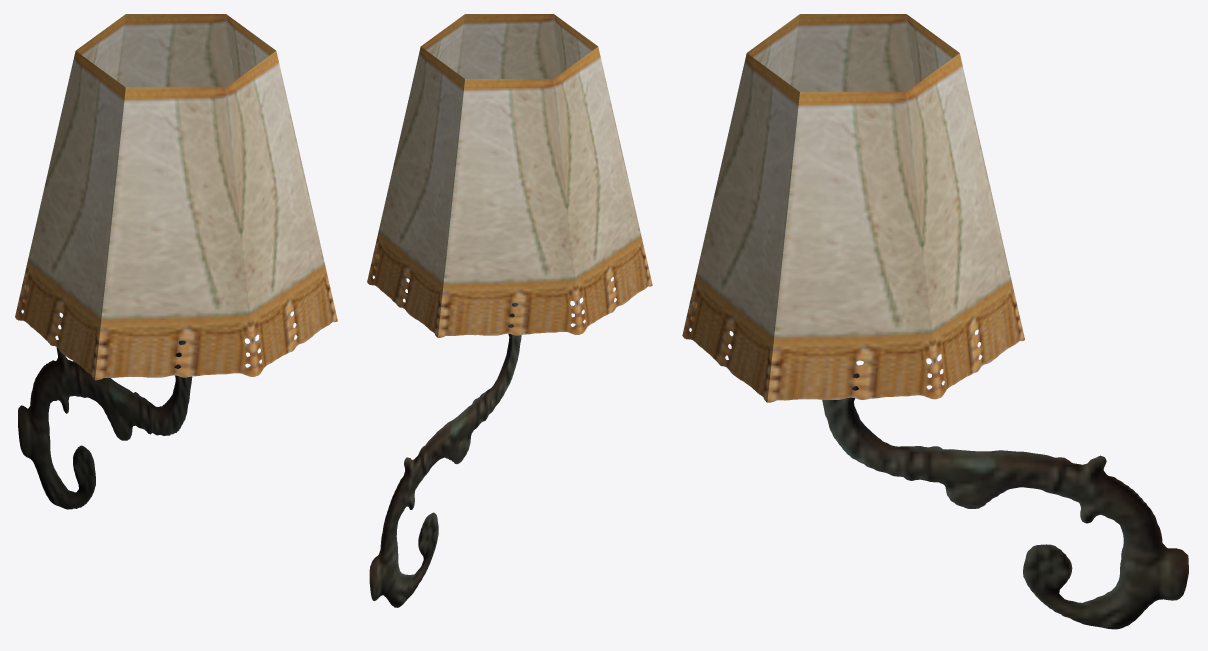
Rendered from lamp_off.fbx.
The picture shows the model from 3 angles, left to right: view 1: azimuth 30°, elevation 25°; view 2: azimuth 150°, elevation 25°; view 3: azimuth 270°, elevation 25°; orthographic projection. The views are drawn at different scales.
Parts seen in each view (by area): view 1: Lamp off; view 2: Lamp off; view 3: Lamp off.
Part boxes in pixels (x1=…): Lamp off: x1=15, y1=14, x2=337, y2=509; Lamp off: x1=367, y1=14, x2=652, y2=607; Lamp off: x1=682, y1=14, x2=1188, y2=629.
Size of the model in its own units: 59.39 by 129 by 102.
Materials: 1 (1 with a texture image).
